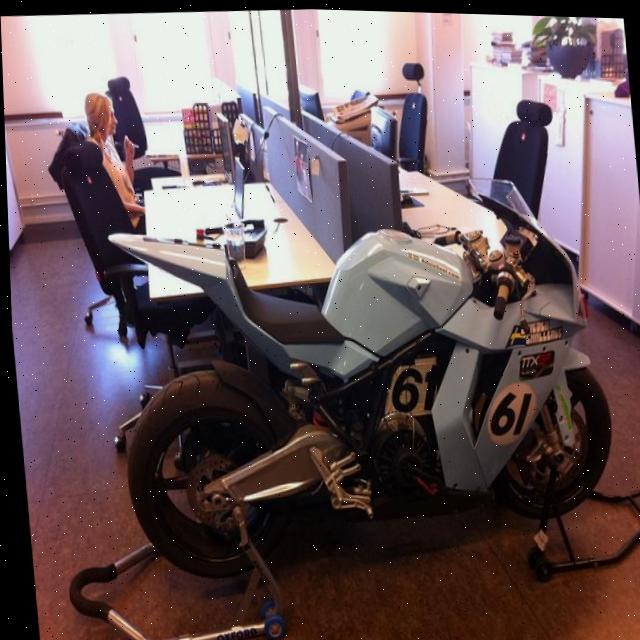motorcycle: (93, 156, 632, 593)
